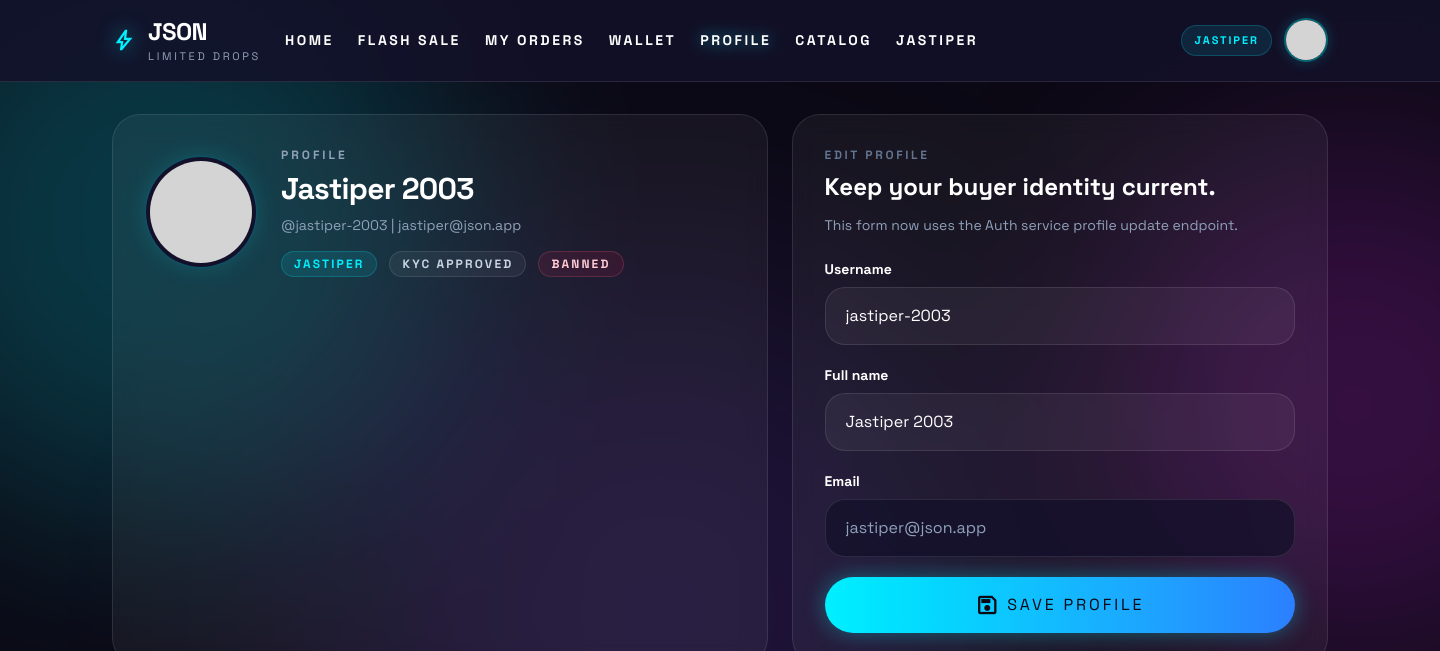
Test: edge page and regression flows › shows jastiper profile affordances and propagates profile errors
Expected: the text "Banned" is shown, [538, 250, 624, 276]
Replace the text in the field labelled "Username" with "duplicate" at (1060, 316), box [825, 286, 1295, 344]
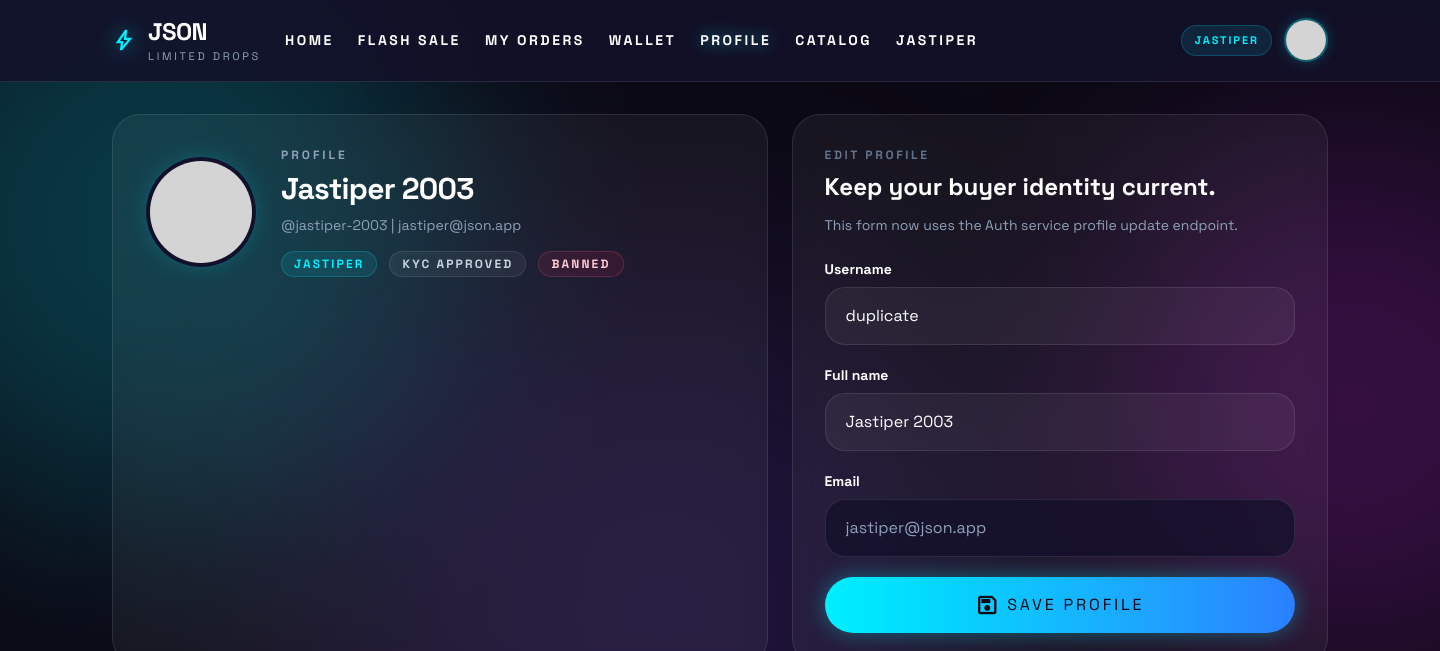
Click the button "Save Profile" at (1060, 604), box [825, 576, 1295, 632]
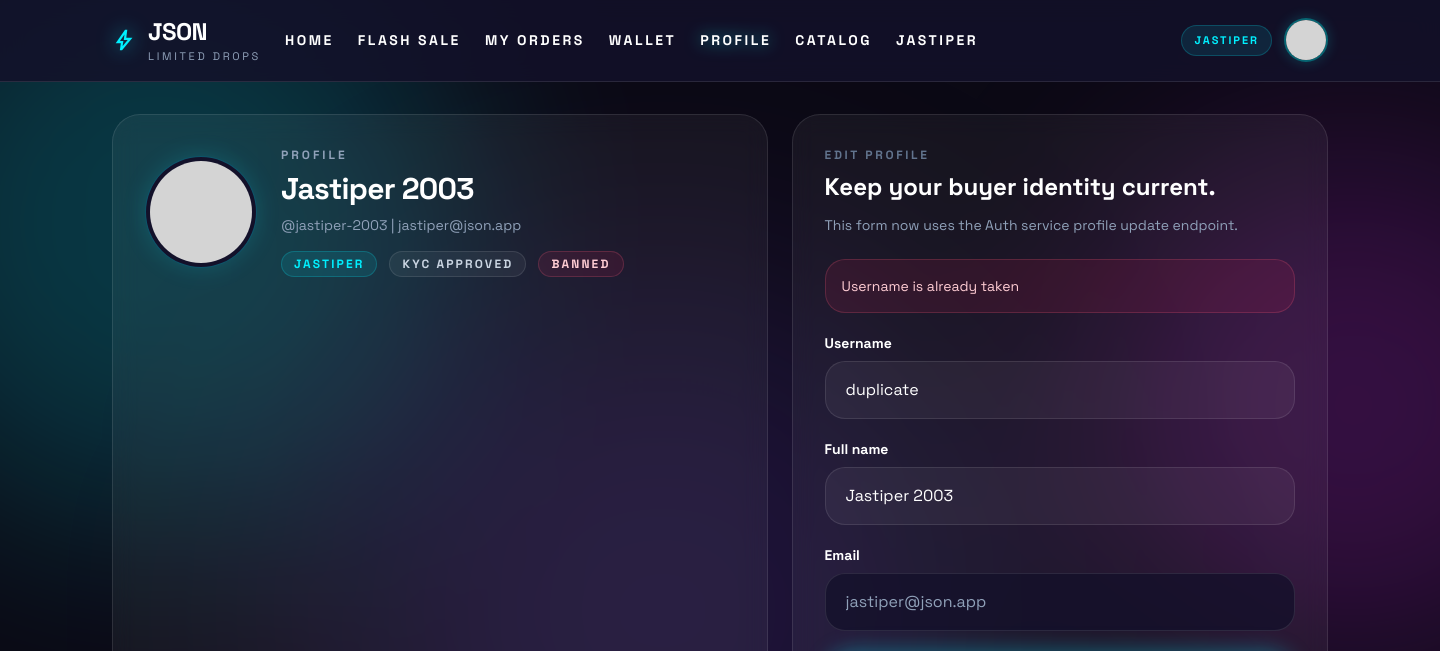
Expected: the text "Username is already taken" is shown, [825, 258, 1295, 312]
